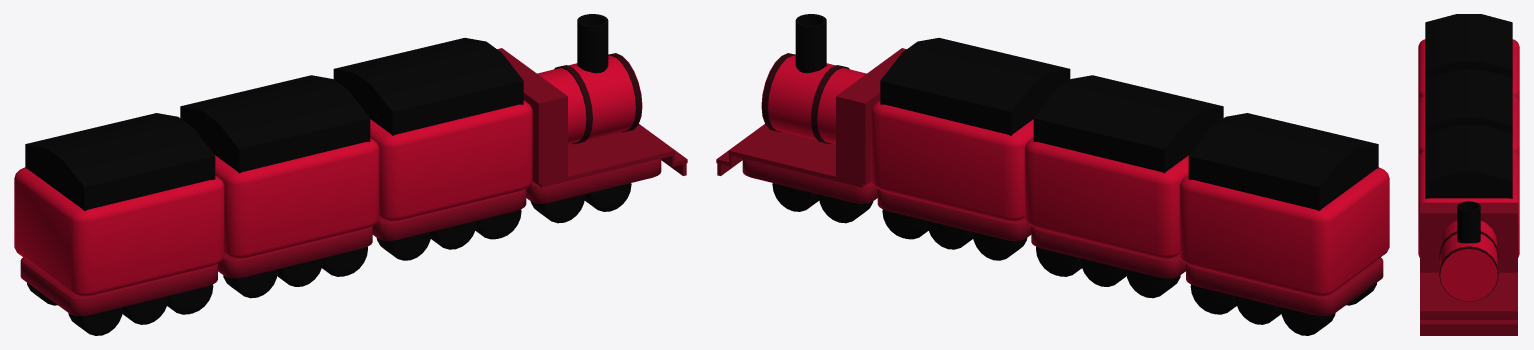
Rendered from Locomotive.fbx.
3 renders of one model, left to right at view 1: azimuth 30°, elevation 25°; view 2: azimuth 150°, elevation 25°; view 3: azimuth 270°, elevation 25°, orthographic. The views are drawn at different scales.
Parts seen in each view (by area): view 1: obj16, obj15, obj14, obj6, obj5, obj2, obj10, obj11, obj4, obj13, obj12, obj3 (+1 smaller); view 2: obj16, obj15, obj14, obj6, obj5, obj2, obj10, obj11, obj4, obj13, obj12, obj3 (+1 smaller); view 3: obj14, obj16, obj15, obj6, obj2, obj5, obj11, obj9, obj8, obj7, obj4, obj1 (+1 smaller).
Part boxes in pixels (bbox=[...]): obj16: bbox=[14, 113, 224, 335]; obj15: bbox=[180, 75, 379, 298]; obj14: bbox=[333, 38, 532, 260]; obj6: bbox=[497, 48, 567, 184]; obj5: bbox=[532, 124, 675, 187]; obj2: bbox=[568, 55, 642, 140]; obj10: bbox=[526, 158, 661, 203]; obj11: bbox=[577, 14, 608, 73]; obj4: bbox=[537, 68, 586, 144]; obj13: bbox=[530, 194, 585, 223]; obj12: bbox=[584, 183, 631, 211]; obj3: bbox=[554, 65, 592, 144]; obj16: bbox=[1179, 113, 1389, 335]; obj15: bbox=[1024, 75, 1223, 298]; obj14: bbox=[871, 38, 1070, 260]; obj6: bbox=[836, 48, 906, 184]; obj5: bbox=[728, 124, 871, 187]; obj2: bbox=[761, 55, 835, 140]; obj10: bbox=[742, 158, 877, 203]; obj11: bbox=[795, 14, 826, 73]; obj4: bbox=[817, 68, 866, 144]; obj13: bbox=[818, 194, 873, 223]; obj12: bbox=[772, 183, 819, 211]; obj3: bbox=[811, 65, 849, 144]; obj14: bbox=[1418, 125, 1519, 257]; obj16: bbox=[1418, 14, 1519, 101]; obj15: bbox=[1418, 70, 1519, 157]; obj6: bbox=[1420, 202, 1517, 272]; obj2: bbox=[1440, 234, 1497, 301]; obj5: bbox=[1420, 272, 1517, 314]; obj11: bbox=[1457, 201, 1480, 243]; obj9: bbox=[1420, 327, 1517, 335]; obj8: bbox=[1420, 320, 1517, 327]; obj7: bbox=[1420, 314, 1517, 319]; obj4: bbox=[1440, 221, 1497, 246]; obj1: bbox=[1439, 246, 1498, 301].
Bounding box in the file's own units: 1638 × 432 × 318.
